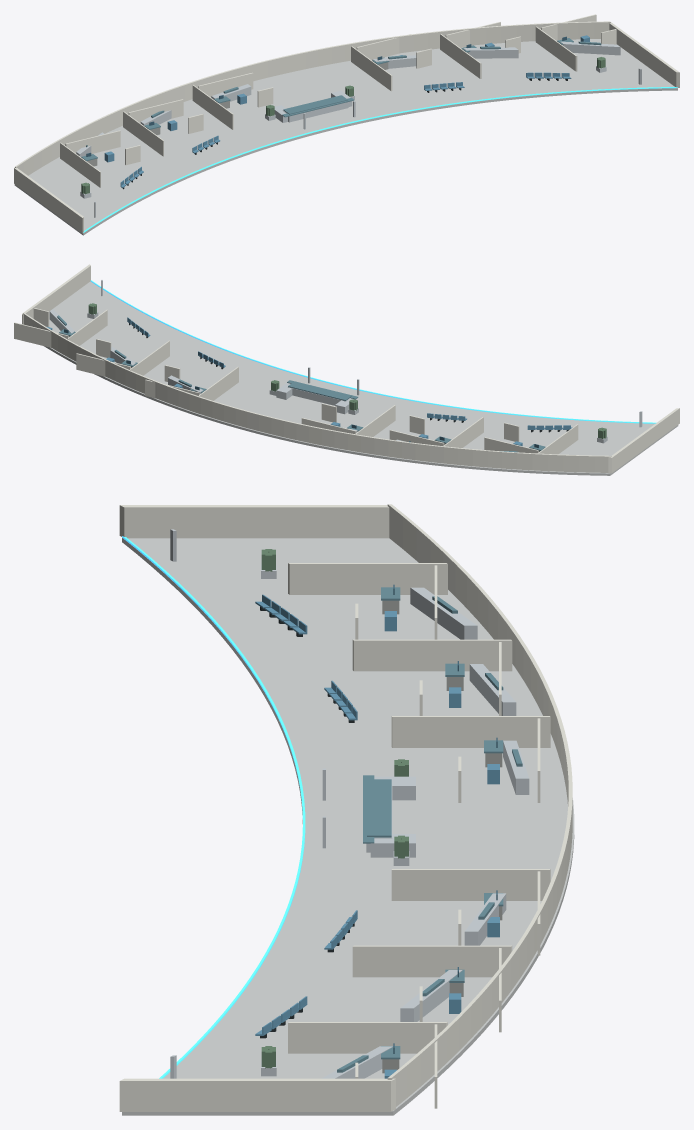
File: floor_f2.glb
3 renders of one model, top to bottom at view 1: azimuth 30°, elevation 25°; view 2: azimuth 150°, elevation 25°; view 3: azimuth 270°, elevation 25°, orthographic. The views are drawn at different scales.
Visible parts, largest first — view 1: floor_f2_floorStone, floor_f2_floorWall, FloorDetail_f2_floorWall, floor_f2_ivory, floor_f2_floorEdge, floor_f2_floorSeat, floor_f2_glassLight, FloorDetail_f2_glassLight, FloorDetail_f2_ivory, FloorDetail_f2_floorSeat, FloorDetail_f2_leafLight; view 2: floor_f2_floorStone, floor_f2_floorWall, FloorDetail_f2_floorWall, floor_f2_ivory, floor_f2_floorEdge, floor_f2_floorSeat, floor_f2_glassLight, FloorDetail_f2_ivory, FloorDetail_f2_glassLight, FloorDetail_f2_leafLight; view 3: floor_f2_floorStone, floor_f2_floorWall, floor_f2_ivory, FloorDetail_f2_floorWall, floor_f2_glassLight, floor_f2_floorEdge, floor_f2_floorSeat, FloorDetail_f2_ivory, FloorDetail_f2_glassLight, FloorDetail_f2_floorSeat, FloorDetail_f2_leafLight, FloorDetail_f2_stone.
Boxes of the visible parts, x1,y1,x2,y2 form: floor_f2_floorStone: [14, 39, 677, 235]; floor_f2_floorWall: [14, 21, 679, 233]; FloorDetail_f2_floorWall: [65, 14, 616, 165]; floor_f2_ivory: [76, 41, 641, 217]; floor_f2_floorEdge: [83, 87, 677, 232]; floor_f2_floorSeat: [120, 72, 571, 188]; floor_f2_glassLight: [86, 41, 601, 147]; FloorDetail_f2_glassLight: [81, 38, 573, 161]; FloorDetail_f2_ivory: [80, 65, 606, 198]; FloorDetail_f2_floorSeat: [104, 35, 589, 162]; FloorDetail_f2_leafLight: [81, 57, 605, 194]; floor_f2_floorStone: [44, 281, 678, 475]; floor_f2_floorWall: [22, 264, 679, 473]; FloorDetail_f2_floorWall: [14, 308, 538, 453]; floor_f2_ivory: [49, 280, 642, 441]; floor_f2_floorEdge: [90, 280, 656, 423]; floor_f2_floorSeat: [127, 317, 572, 429]; floor_f2_glassLight: [57, 315, 517, 452]; FloorDetail_f2_ivory: [87, 312, 607, 443]; FloorDetail_f2_glassLight: [59, 329, 545, 450]; FloorDetail_f2_leafLight: [88, 303, 606, 438]; floor_f2_floorStone: [122, 537, 574, 1115]; floor_f2_floorWall: [119, 504, 572, 1111]; floor_f2_ivory: [170, 529, 529, 1078]; FloorDetail_f2_floorWall: [355, 565, 540, 1108]; floor_f2_glassLight: [337, 596, 522, 1072]; floor_f2_floorEdge: [122, 536, 305, 1078]; floor_f2_floorSeat: [255, 594, 357, 1035]; FloorDetail_f2_ivory: [261, 564, 415, 1076]; FloorDetail_f2_glassLight: [363, 587, 503, 1059]; FloorDetail_f2_floorSeat: [384, 611, 499, 1078]; FloorDetail_f2_leafLight: [261, 549, 408, 1068]; FloorDetail_f2_stone: [382, 600, 502, 1073].
Bounding box in the file's own units: 120 × 3.7 × 40.21.
